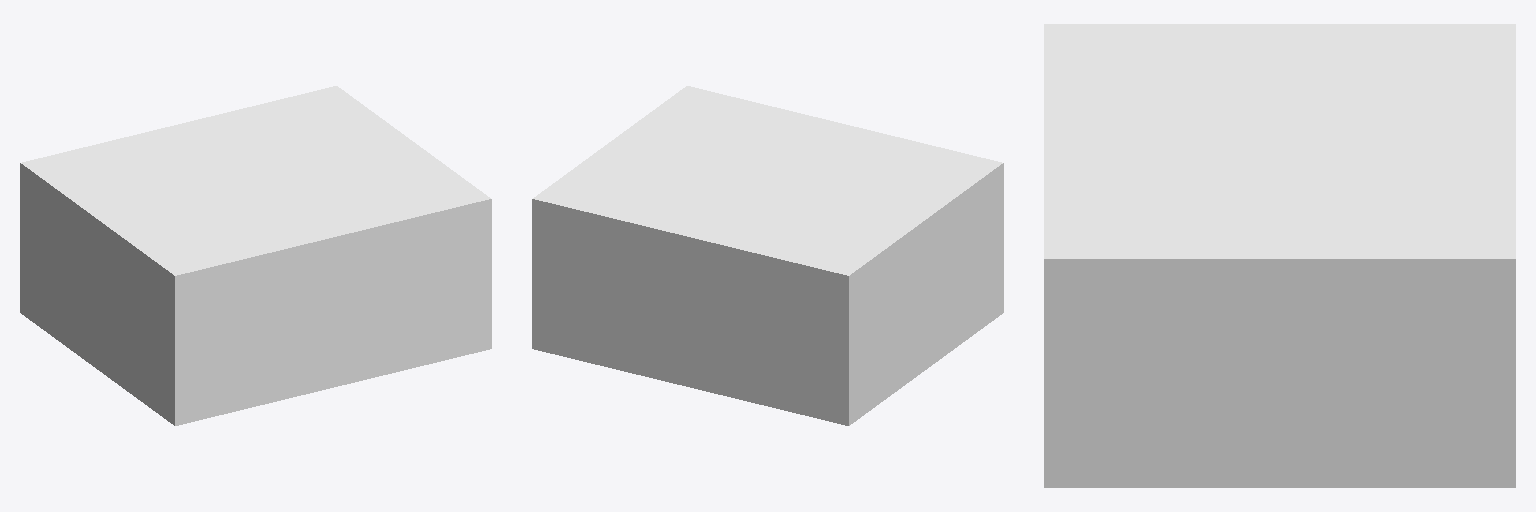
robot.urdf — arobota:
<?xml version="1.0"?>
<robot name="arobota">
    <link name="base_footprint"/>
    <link name="base_link">
        <visual>
            <geometry>
                <box size="0.65 0.55 0.295"/>
            </geometry>
            <material name="chassis_color">
                <color rgba="1.0 1.0 1.0 1.0"/>
            </material>
        </visual>
    </link>
    <joint name="base_offset" type="fixed">
        <parent link="base_footprint"/>
        <child link="base_link"/>
        <origin xyz="0.0 0.0 0.23"/>
    </joint>
    
</robot>

--- Facts derived from the render (not from the file) ---
Views: 3 orthographic renders of the robot side by side, from view 1: azimuth 30°, elevation 25°; view 2: azimuth 150°, elevation 25°; view 3: azimuth 270°, elevation 25°.
Robot: arobota — 2 links, 1 joints (1 fixed); root link base_footprint; default pose: all joints at 0.
Links seen in each view (by area): view 1: base_link; view 2: base_link; view 3: base_link.
Link boxes in pixels (x1,y1,x2,y2): base_link: [20, 86, 491, 425]; base_link: [532, 86, 1003, 425]; base_link: [1044, 24, 1515, 487].
Bounding box of the posed robot: 0.65 × 0.55 × 0.295 m (x, y, z).
Geometry: primitives only (box / cylinder / sphere), no mesh files.